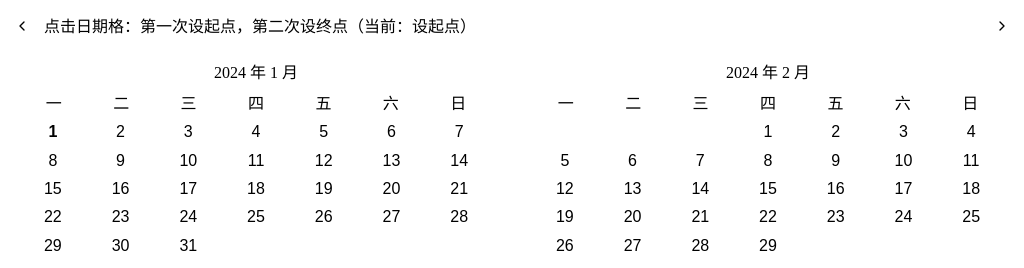
TabCalendar 点格两段式 › 翻月游标：前翻/后翻改变左侧月份
The image size is (1024, 268).
Click the button with test id "cal-next": click(1002, 27) [988,17,1016,38]
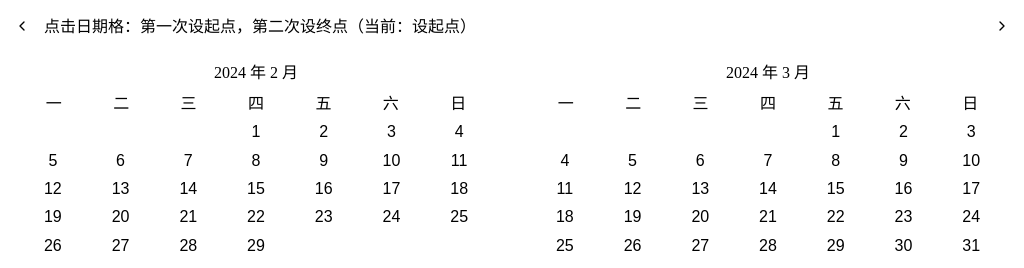
Expected: the text "2024 年 2 月" is shown, [214,64,298,81]
Click the button with test id "cal-prev": click(22, 27) [8,17,36,38]
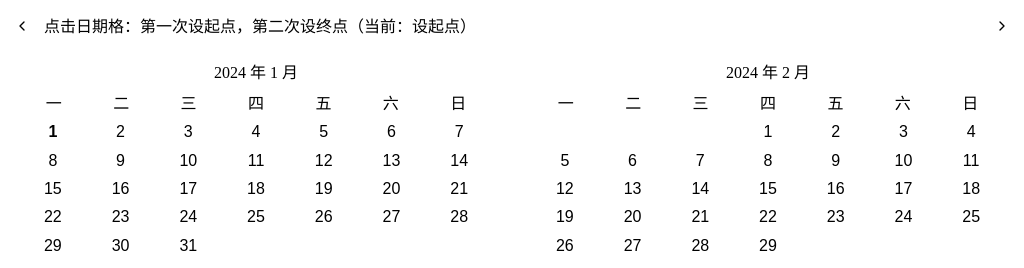
Expected: the text "2024 年 1 月" is shown, [214,64,298,81]
